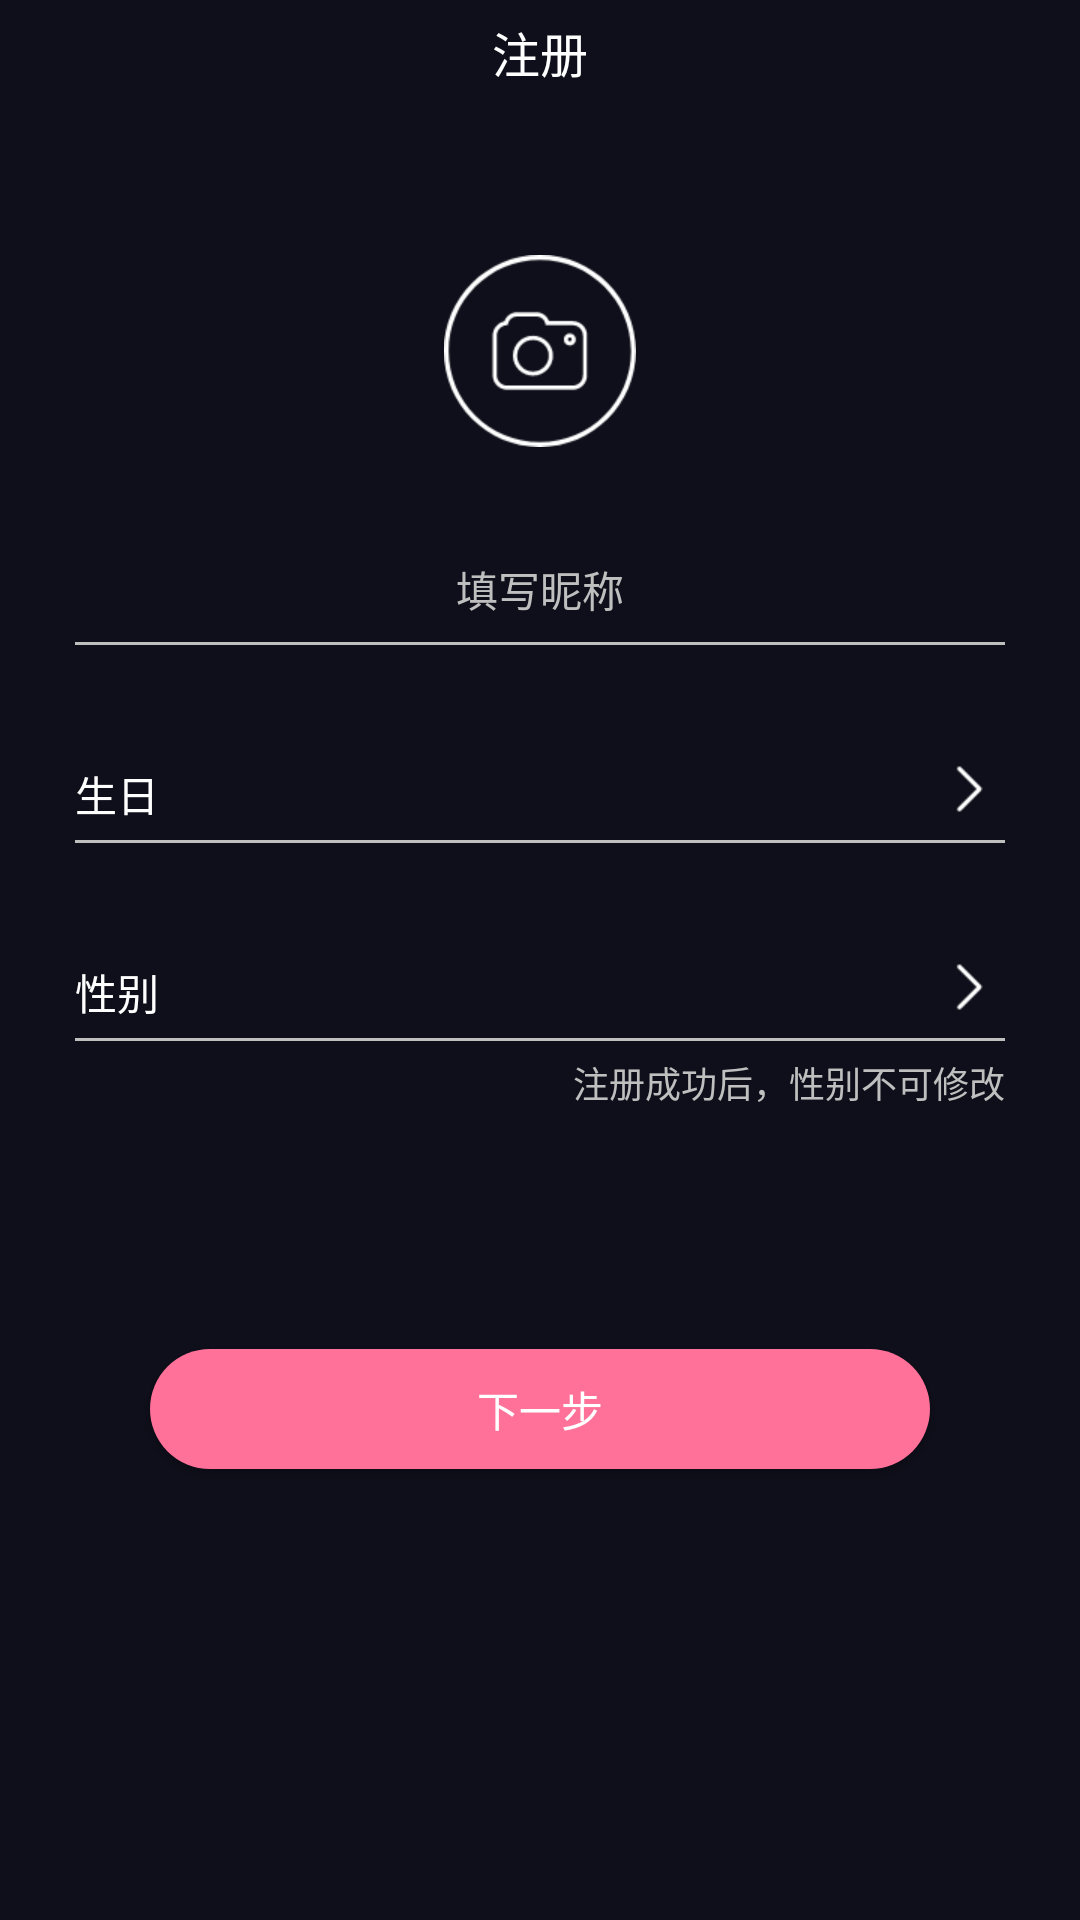

Icons on this 1080 x 1920 Android screen, each with its box as bbox=[x1, y1, x2, y2]:
arrow right: bbox=[956, 766, 983, 812], bbox=[956, 964, 983, 1010]
upload head: bbox=[444, 255, 636, 447]
